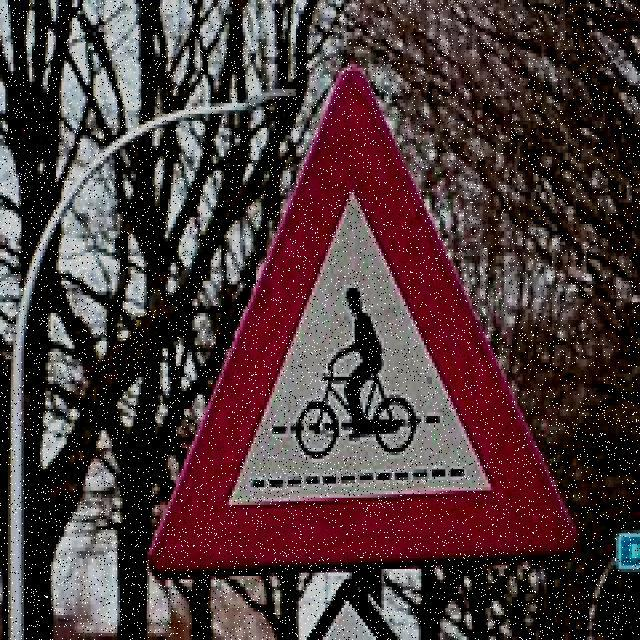Traffic sign: (138, 59, 586, 587)
